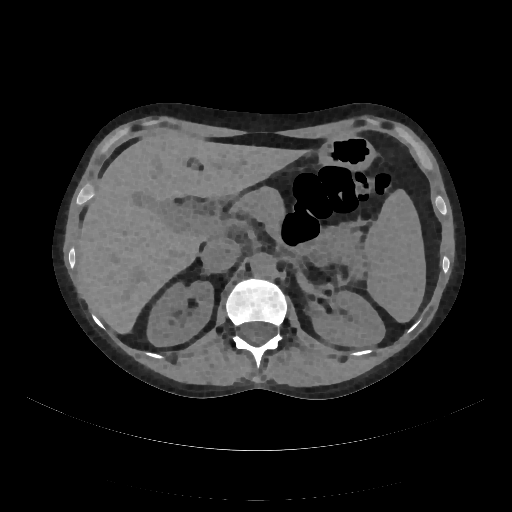Lesion: (182, 294, 201, 311)
